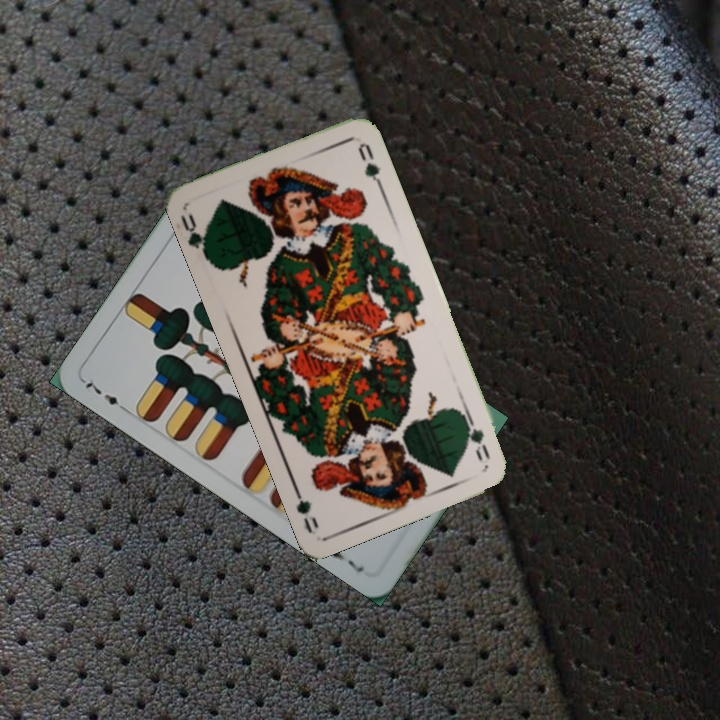E7: (79, 374, 131, 415)
GO: (456, 408, 493, 464), (176, 209, 212, 264)
